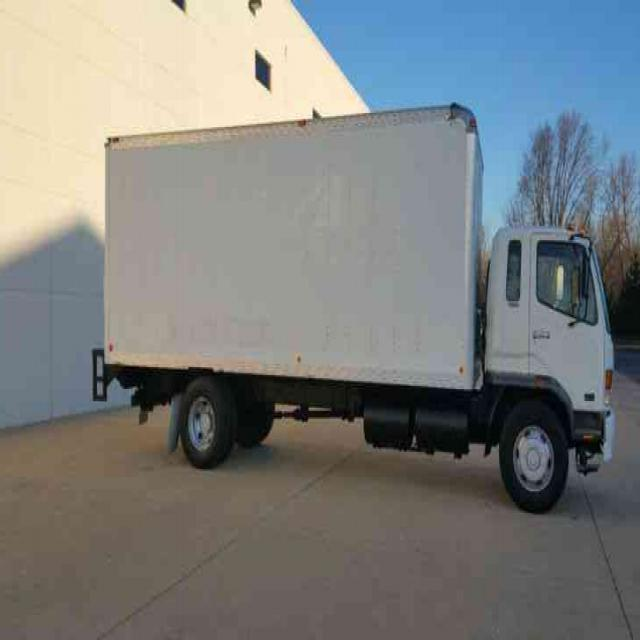truck: (90, 99, 616, 510)
